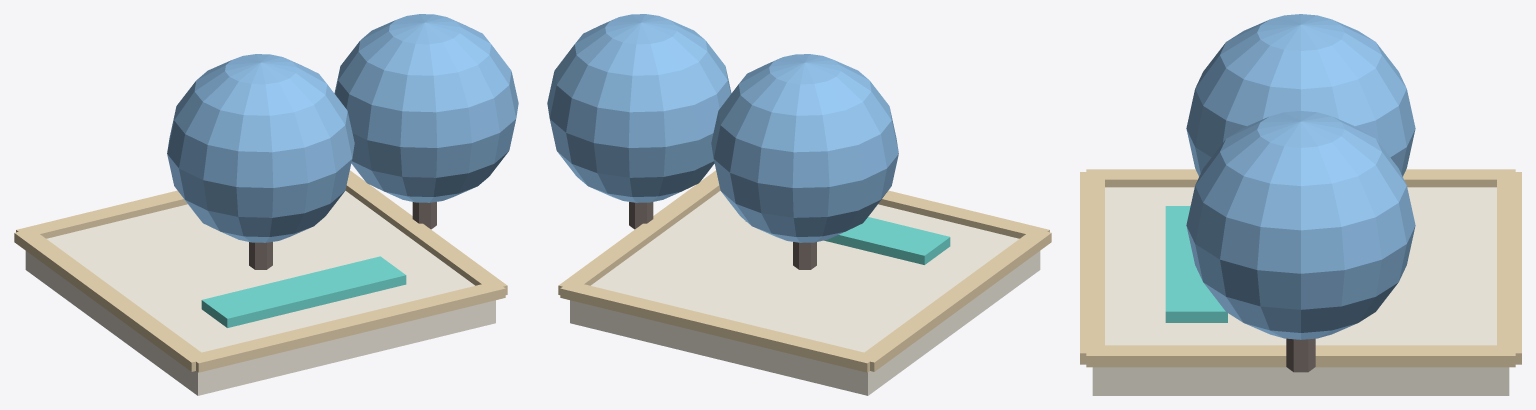
Rendered from city.park.glb.
3 views of the same model, side by side, from view 1: azimuth 30°, elevation 25°; view 2: azimuth 150°, elevation 25°; view 3: azimuth 270°, elevation 25° (orthographic). The views are drawn at different scales.
Parts seen in each view (by area): view 1: city.park; view 2: city.park; view 3: city.park.
Part boxes in pixels (<box>): city.park: <box>14,14,518,395</box>; city.park: <box>547,14,1051,395</box>; city.park: <box>1080,14,1521,395</box>.
Bounding box in the file's own units: 2.71 × 1.5 × 2.12.
